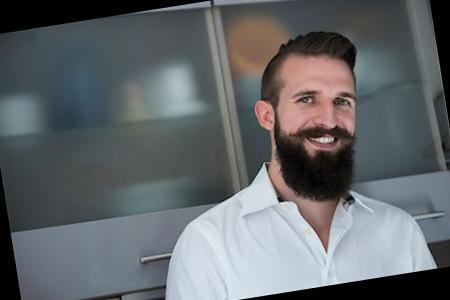Sober: (283, 59, 357, 164)
